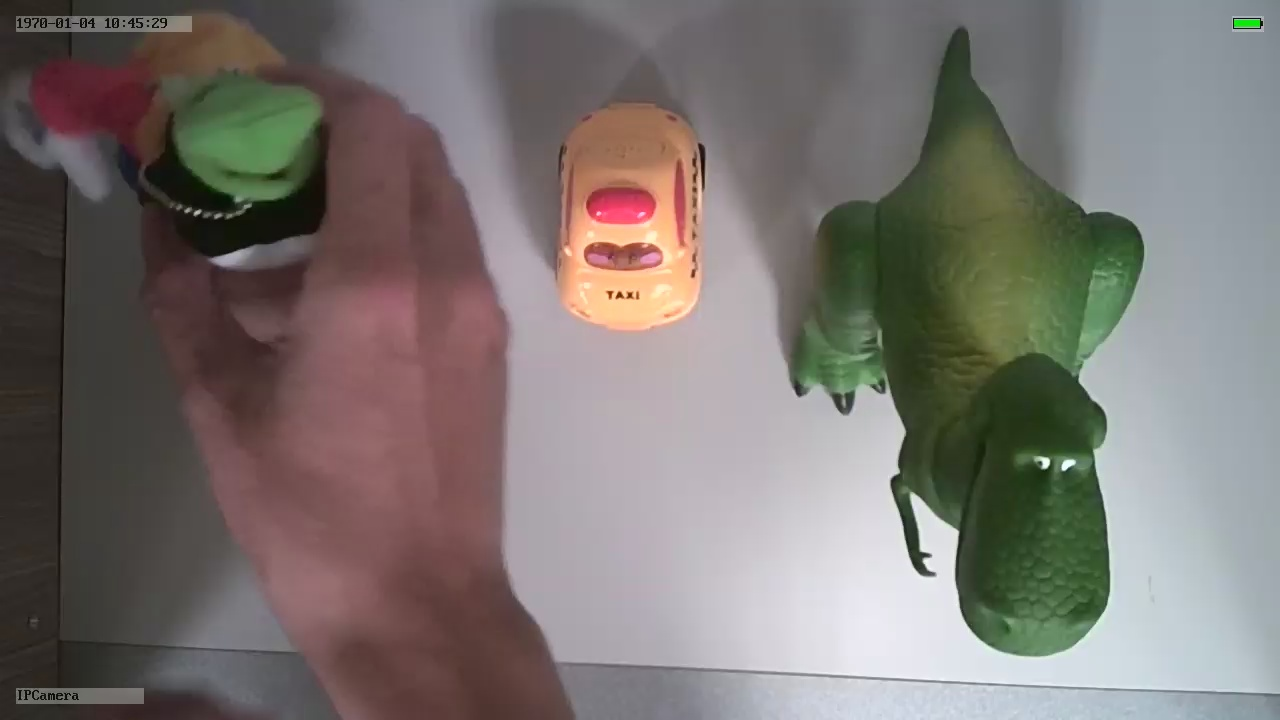car: (549, 95, 712, 337)
rex: (791, 102, 1145, 658)
